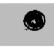correct: (21, 7, 48, 35)
